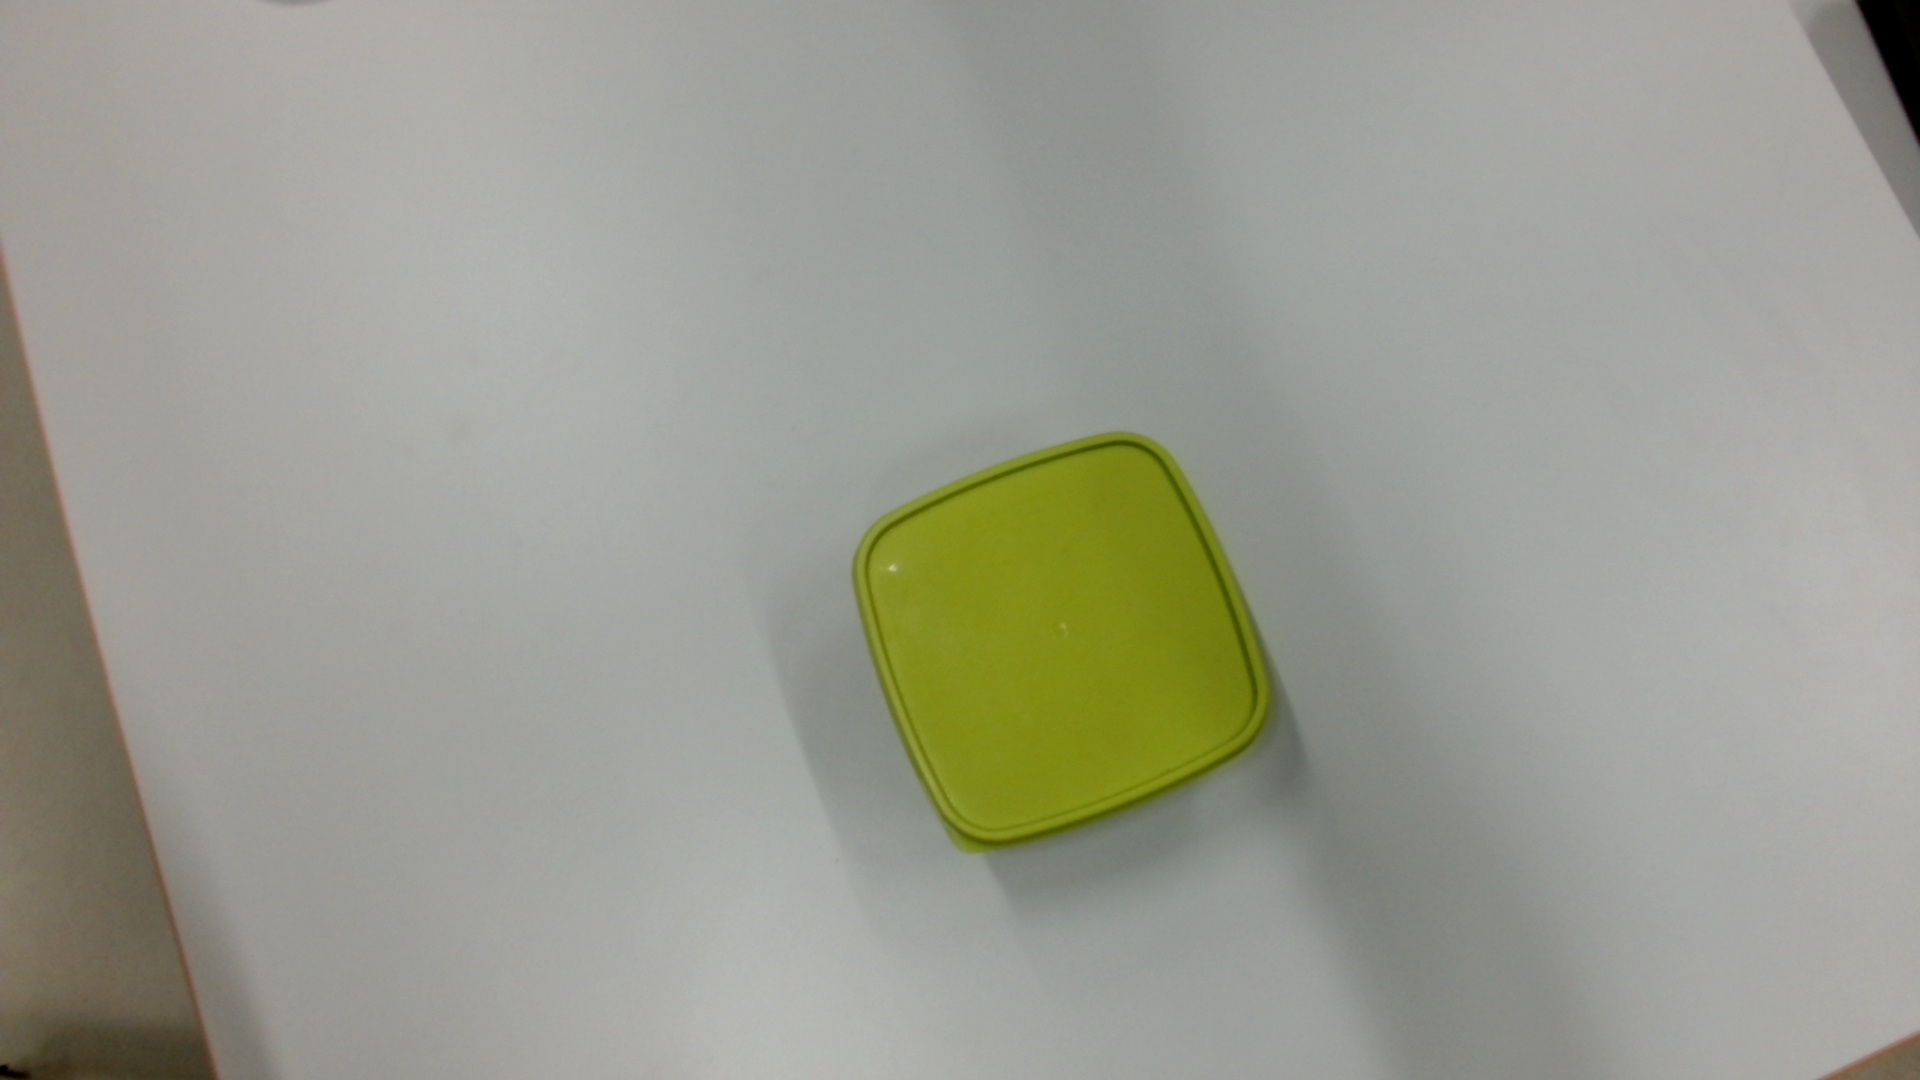Box: (845, 426, 1280, 860)
